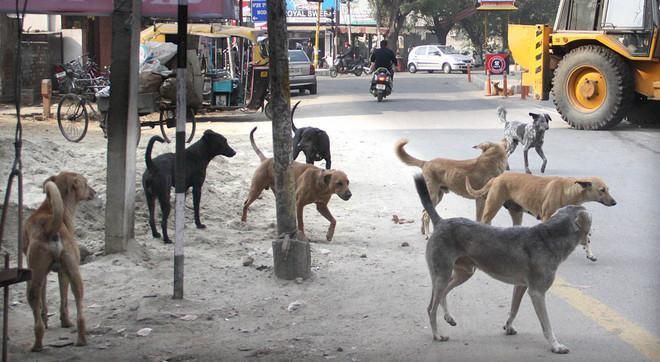normal_dogs: (408, 170, 599, 359), (19, 170, 102, 352), (242, 122, 354, 241), (138, 122, 237, 244), (466, 163, 621, 227), (392, 134, 511, 206), (492, 101, 565, 172), (286, 98, 342, 167), (486, 77, 519, 101)
